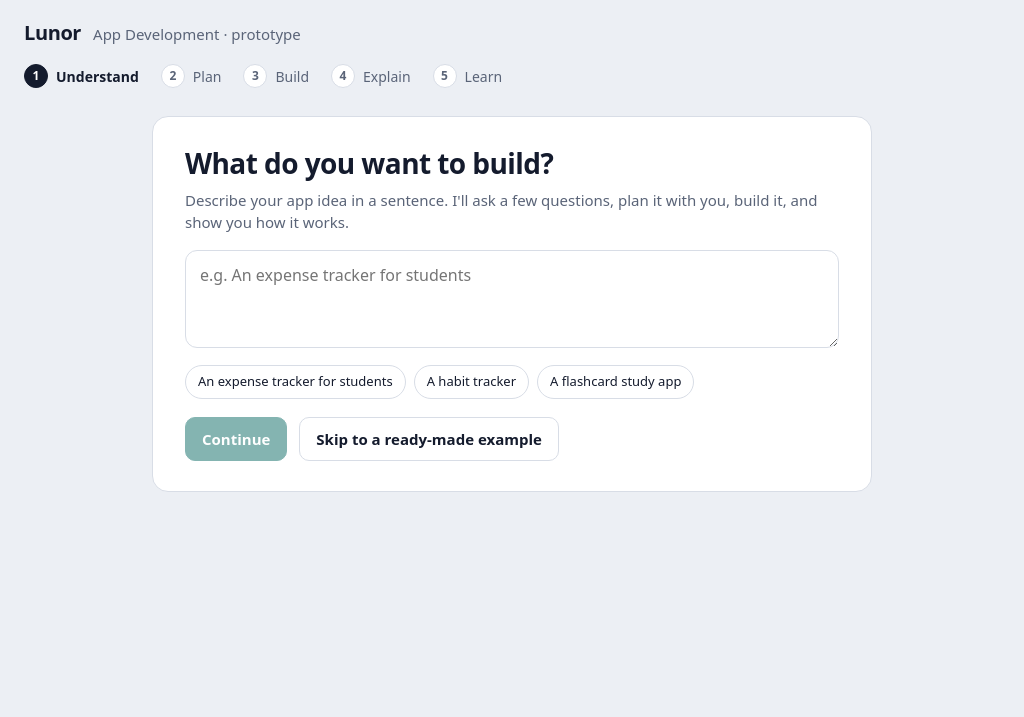
Test: failure paths never strand the user › Plan fails after the questions: same safe landing
The width and height of the screenshot is (1024, 717).
In the text box named "App idea": point(512, 299) [185, 250, 839, 348], type "habit tracker"
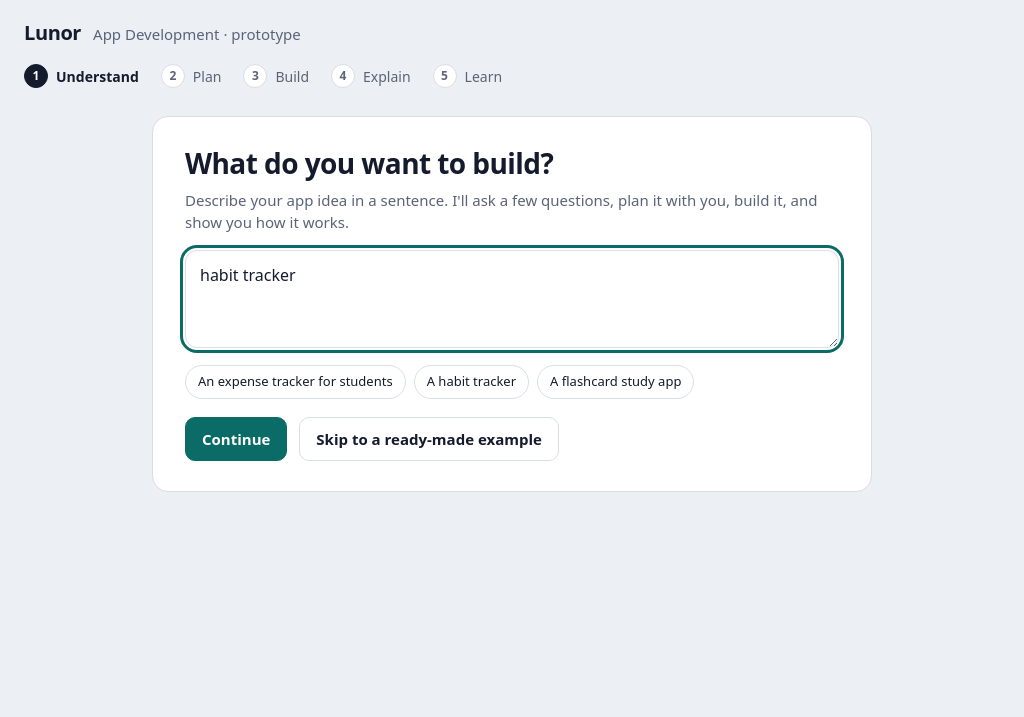
Click the button "Continue": point(236, 439) [185, 417, 287, 461]
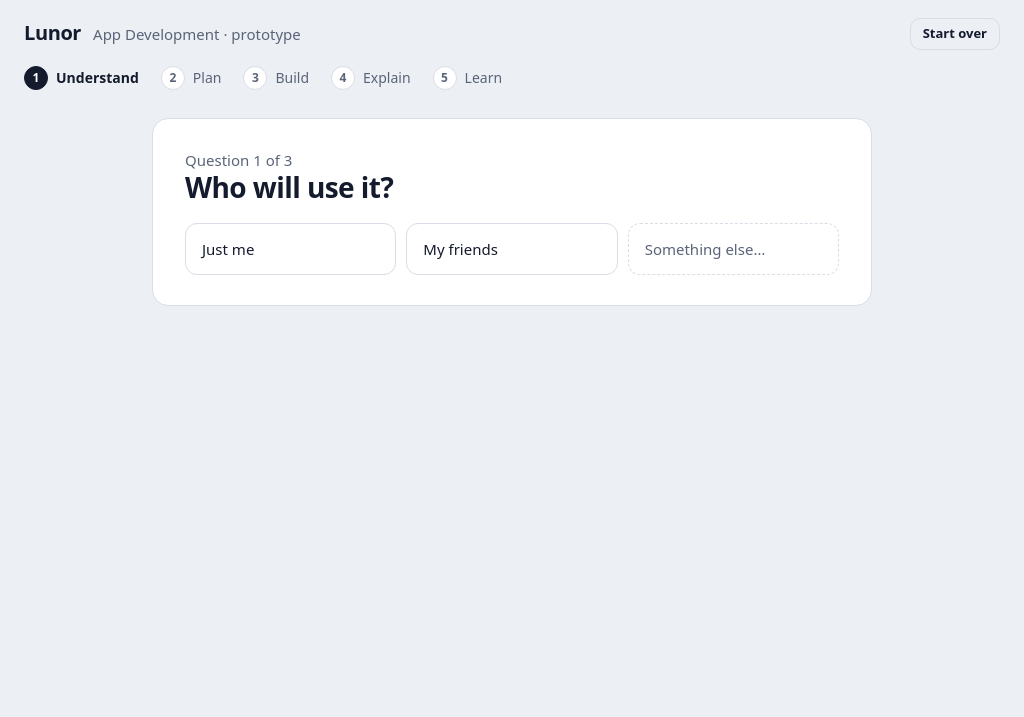
Click the button "Just me": point(291, 249) [185, 223, 396, 275]
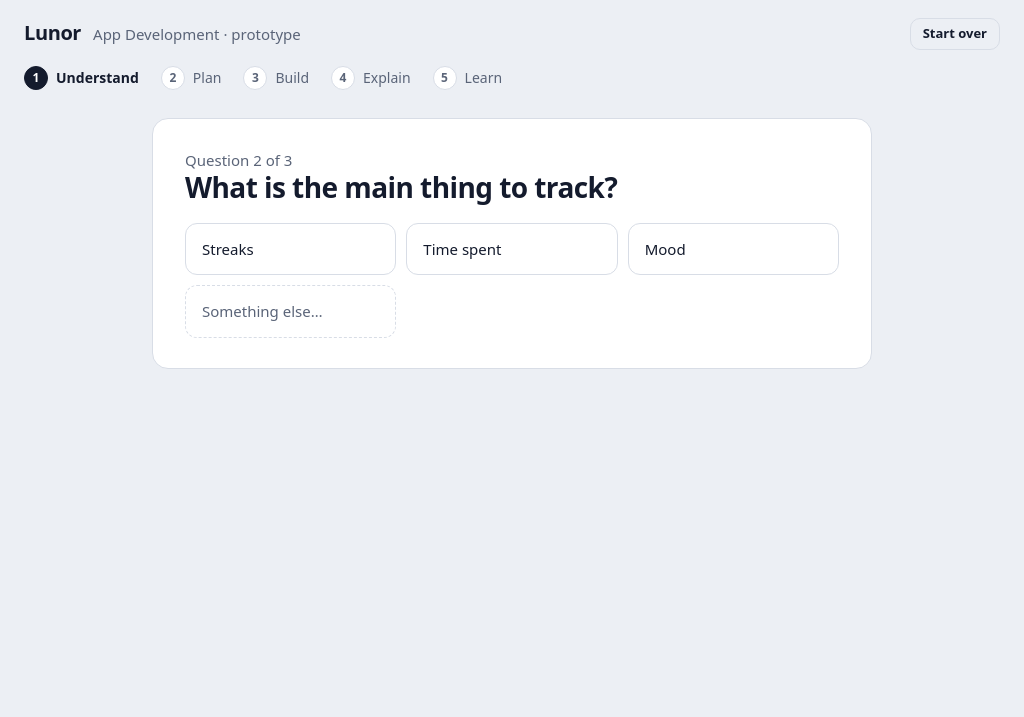
Click the button "Streaks": point(291, 249) [185, 223, 396, 275]
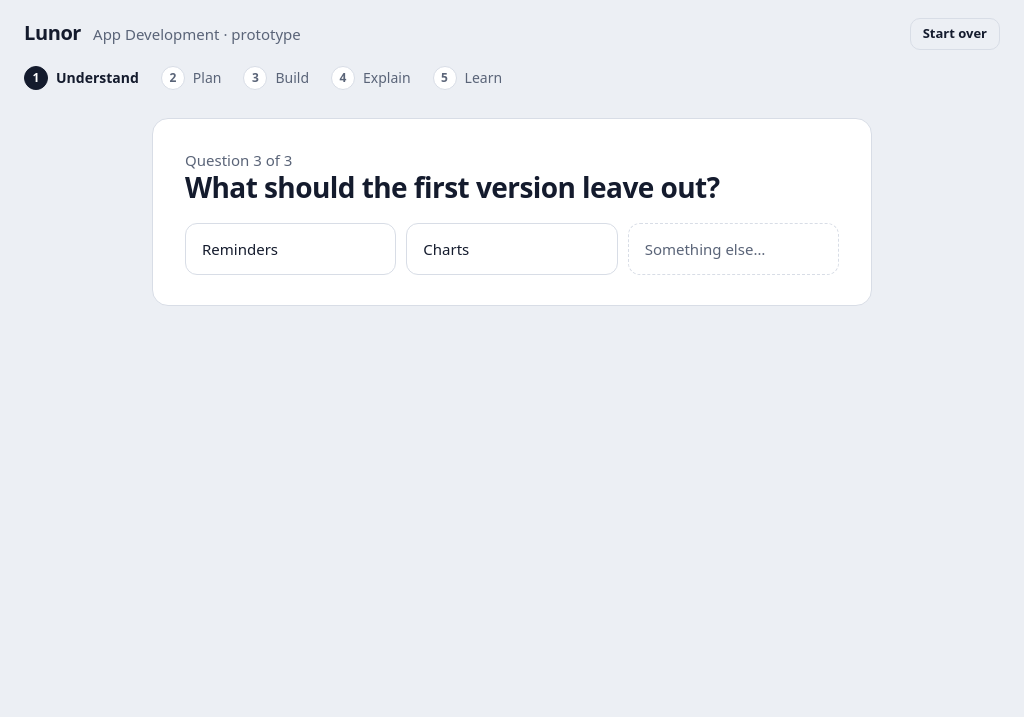
Click the button "Charts": point(512, 249) [406, 223, 618, 275]
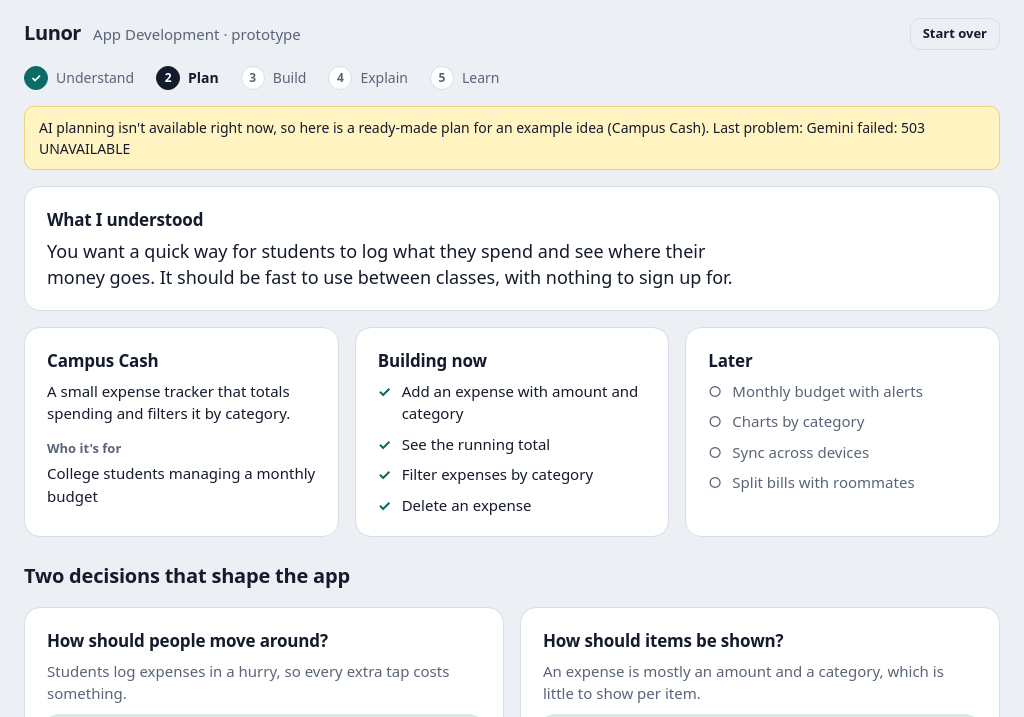
Expected: the message shows "503", [39, 118, 925, 158]
